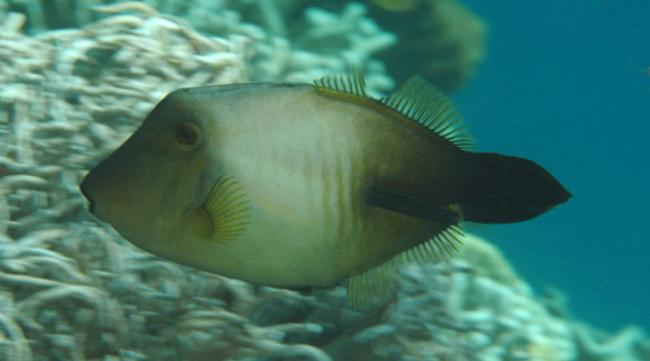fish: (80, 85, 574, 300)
